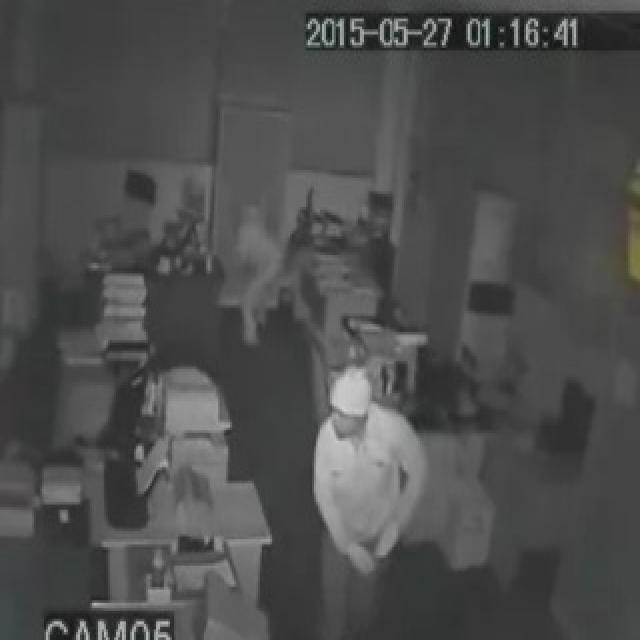thief: (306, 358, 418, 612), (230, 199, 287, 364)
